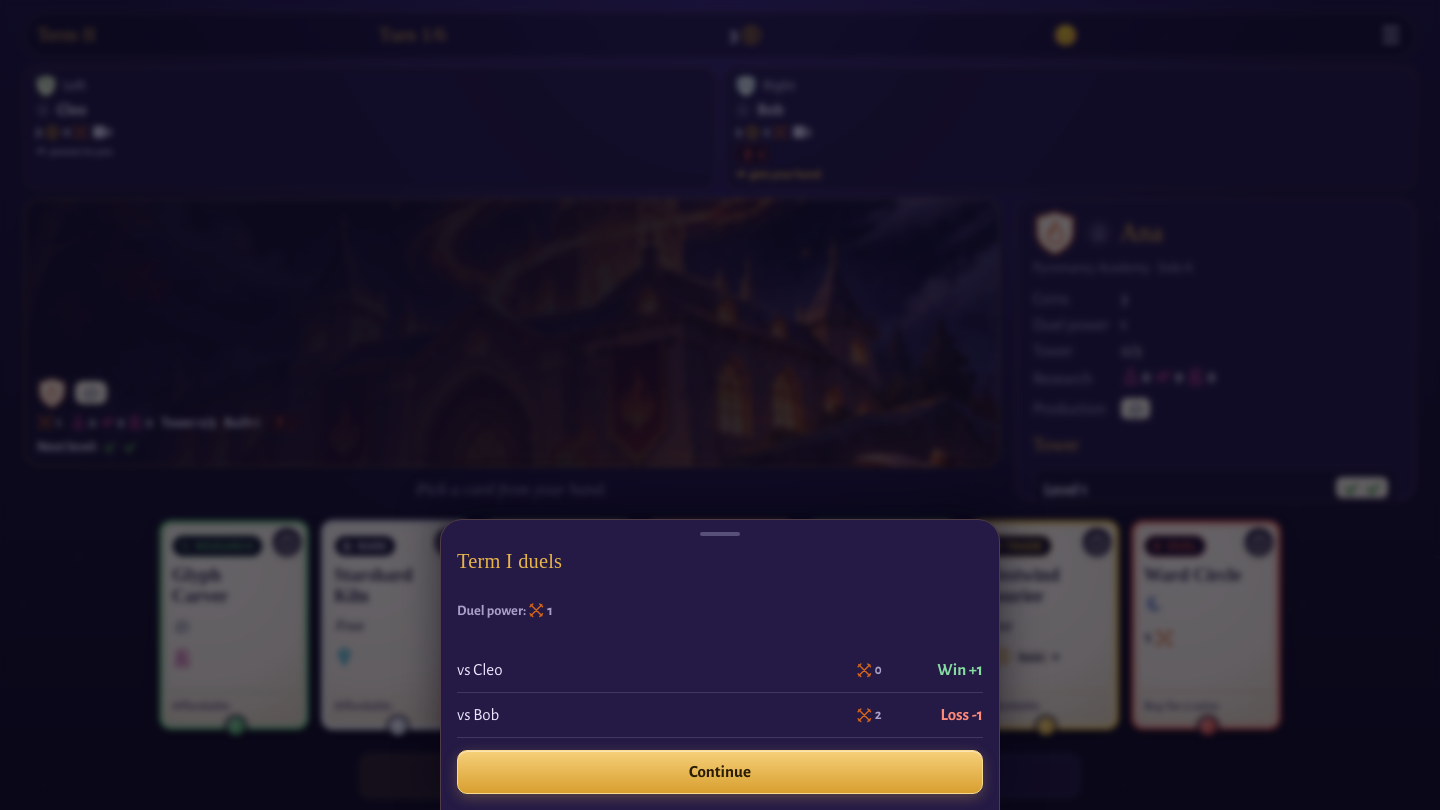
Test: Term end › stays open when the next turn arrives and continue closes it
Expected: the heading "Term I duels" is shown, 457,550 -> 562,572
Click the button "Continue". click: {"x": 720, "y": 772}
box: 457,750 -> 983,794
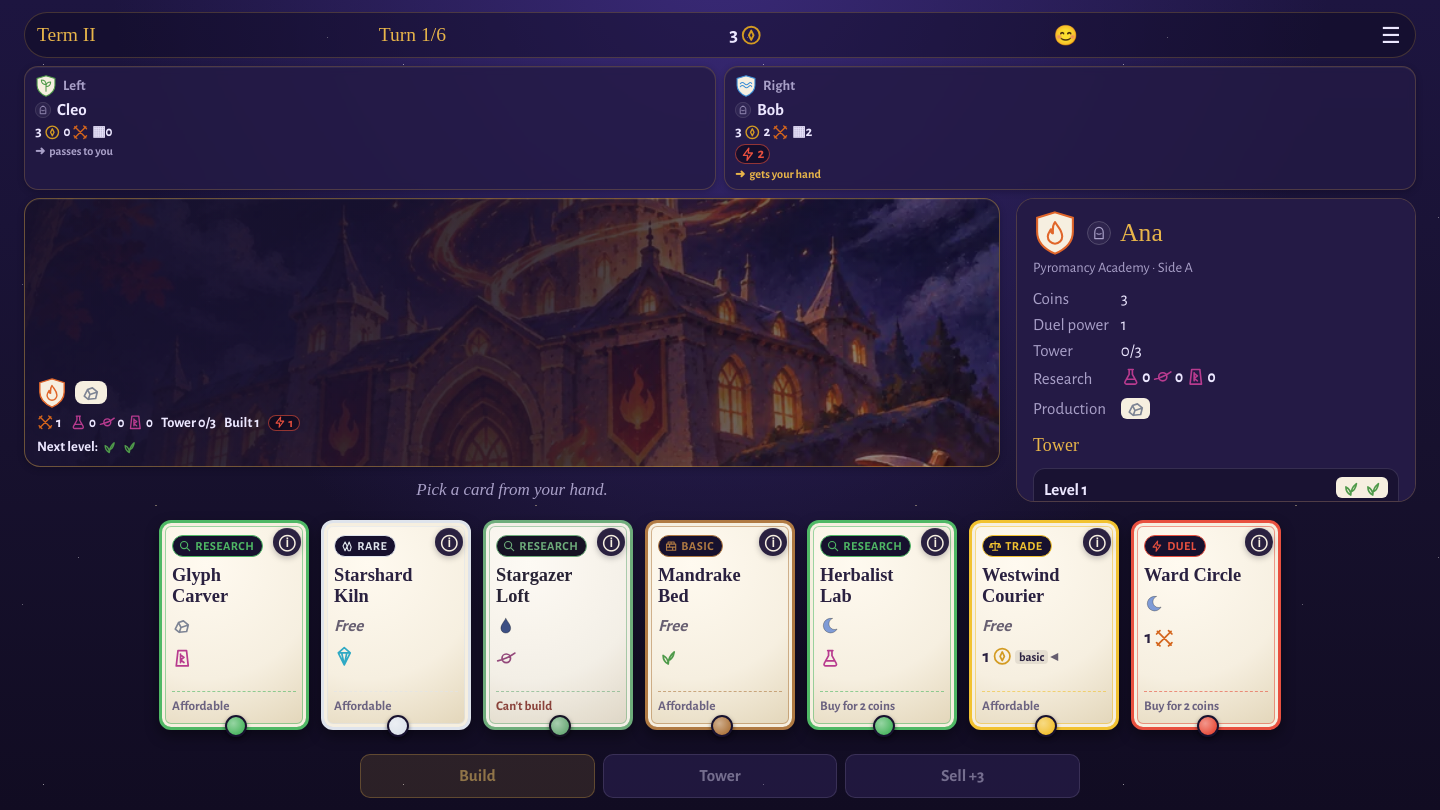
Expected: the heading "Term I duels" is gone
